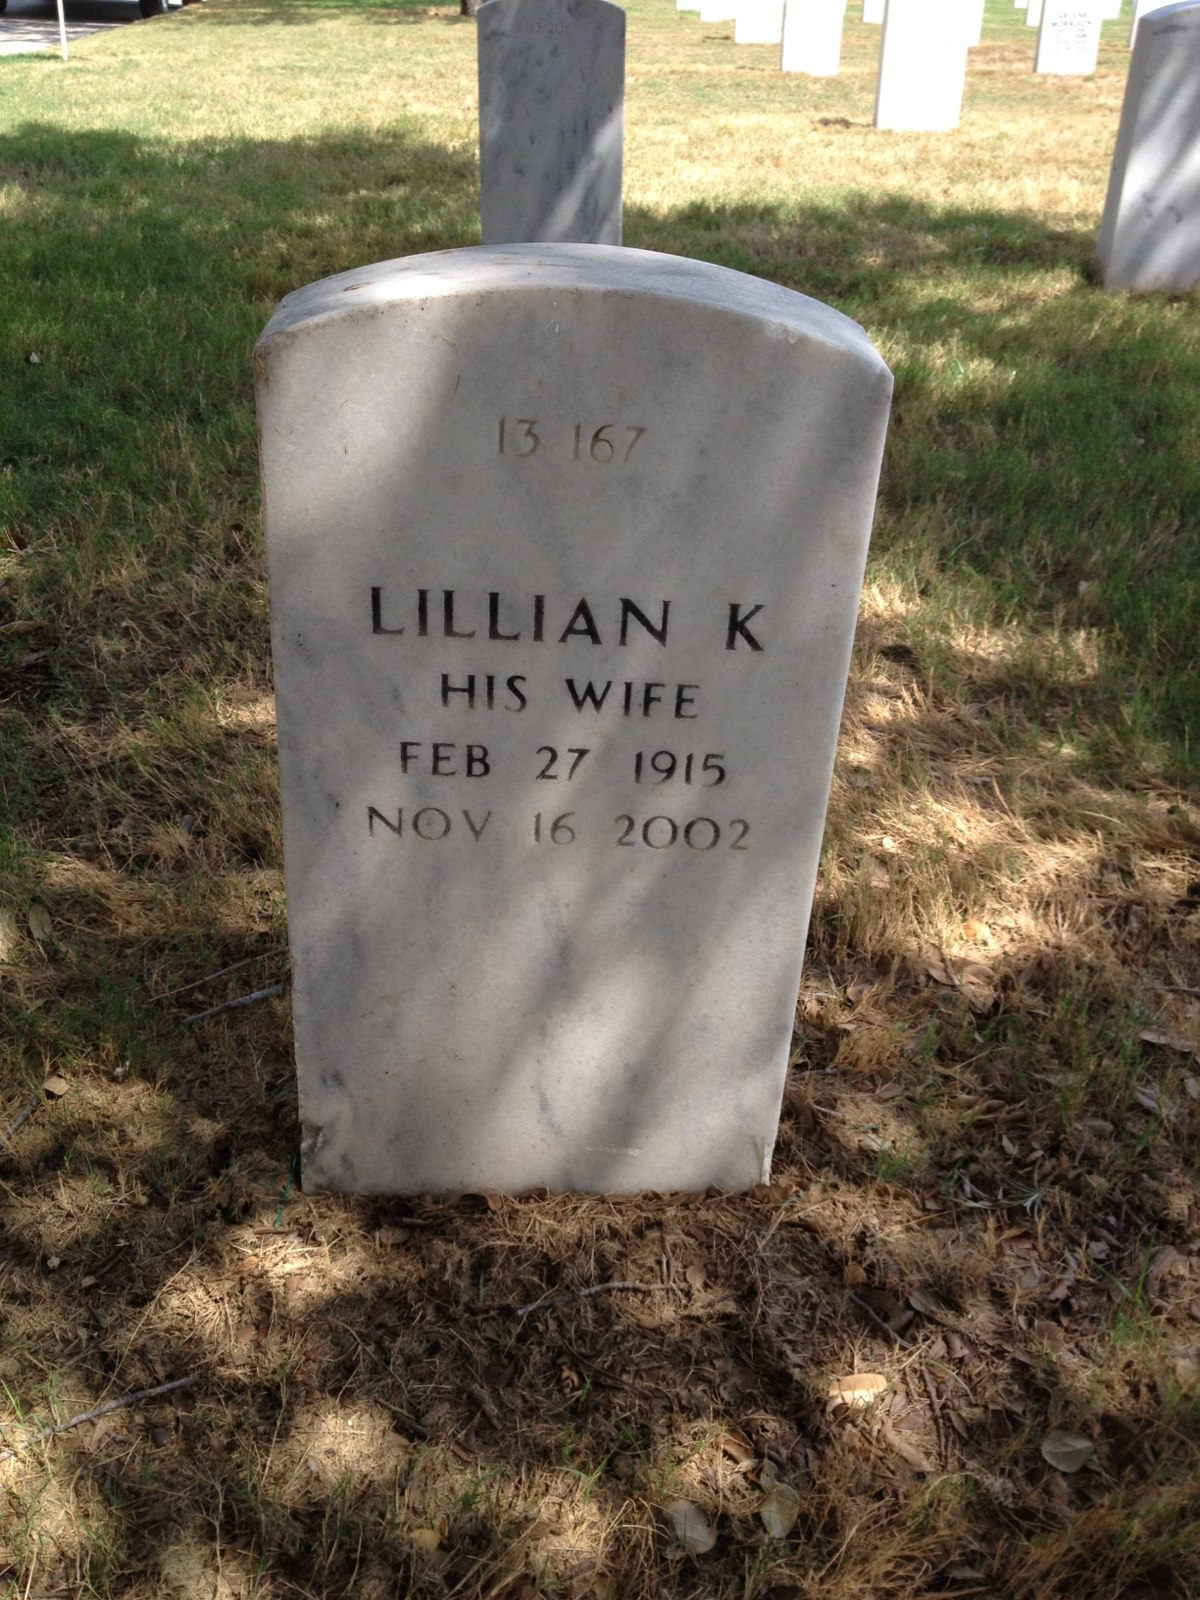military: (256, 248, 895, 1189)
